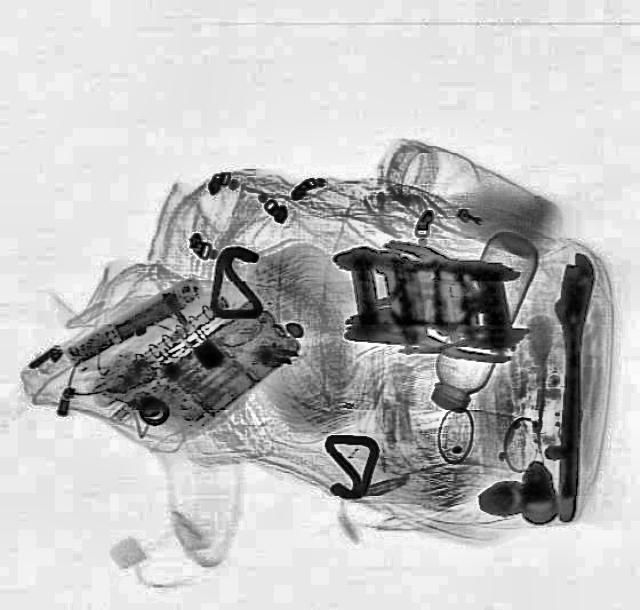Wrench: (542, 249, 594, 521)
